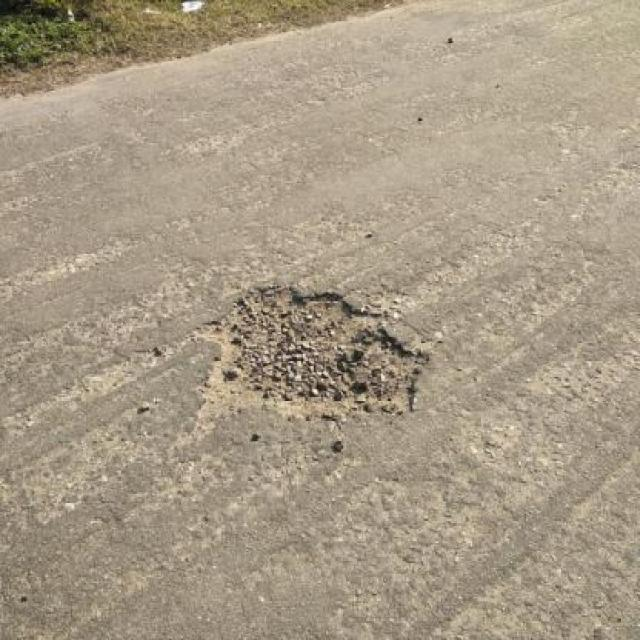Pothole: (201, 282, 434, 420)
